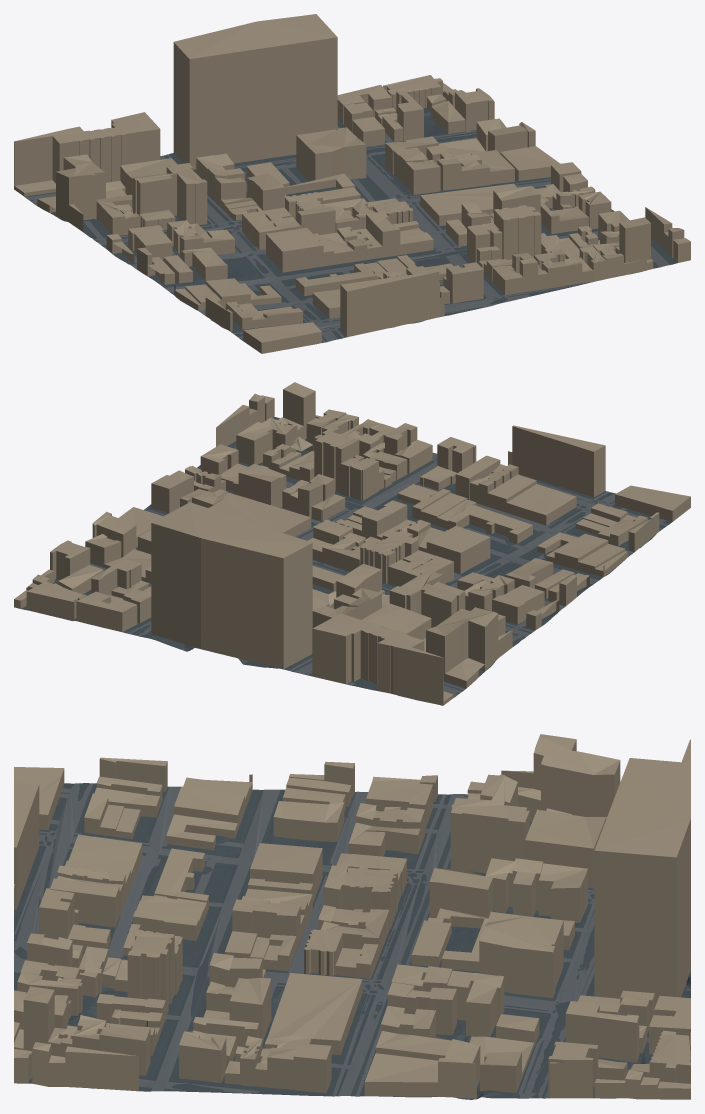
File: epsg26910-1435-10890.lod0.glb
3 views of the same model, one above another, from view 1: azimuth 30°, elevation 25°; view 2: azimuth 150°, elevation 25°; view 3: azimuth 270°, elevation 25° (orthographic). The views are drawn at different scales.
Visible parts, largest first — view 1: epsg26910-1435-10890-lod0; view 2: epsg26910-1435-10890-lod0; view 3: epsg26910-1435-10890-lod0.
Boxes of the visible parts, bbox=[...] form: epsg26910-1435-10890-lod0: bbox=[14, 14, 690, 353]; epsg26910-1435-10890-lod0: bbox=[14, 382, 690, 705]; epsg26910-1435-10890-lod0: bbox=[14, 734, 690, 1099].
Bounding box in the file's own units: 384 × 101 × 384.
